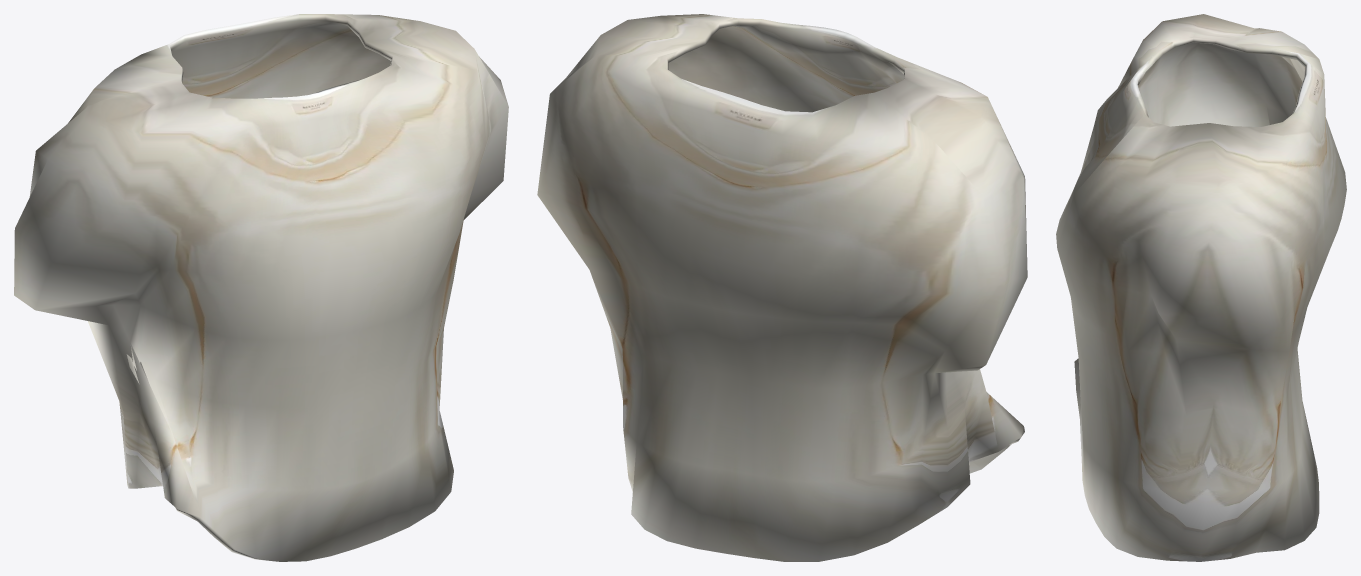
The picture shows the model from 3 angles, left to right: view 1: azimuth 30°, elevation 25°; view 2: azimuth 150°, elevation 25°; view 3: azimuth 270°, elevation 25°; orthographic projection. The views are drawn at different scales.
Visible parts, largest first — view 1: garment; view 2: garment; view 3: garment.
Boxes of the visible parts, box(x1,y1,x2,y2) form: garment: box(14, 14, 508, 561); garment: box(537, 14, 1027, 561); garment: box(1056, 14, 1346, 561).
Size of the model in its own units: 0.5637 by 0.5265 by 0.3297.
Materials: 1 (1 with a texture image).
